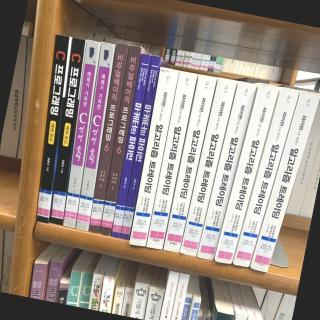book-spine: (248, 89, 320, 273), (230, 86, 300, 269), (214, 82, 280, 265), (195, 80, 258, 261), (178, 77, 237, 257), (161, 74, 217, 254), (126, 67, 179, 248), (145, 71, 198, 251), (98, 45, 142, 236), (87, 43, 129, 233), (119, 55, 161, 240), (74, 42, 115, 231), (61, 39, 101, 229), (110, 54, 151, 238), (48, 38, 86, 226), (35, 35, 69, 223)
